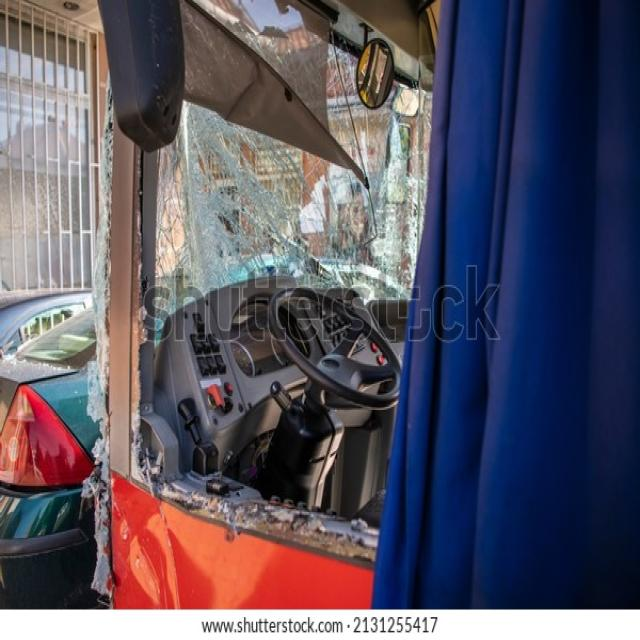Accident: (78, 0, 640, 603)
